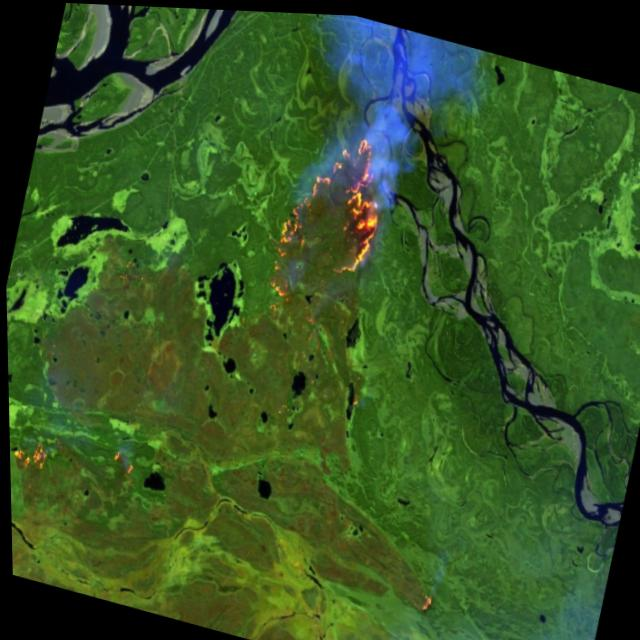fire: (247, 88, 413, 331), (7, 405, 148, 509), (399, 567, 445, 626)
